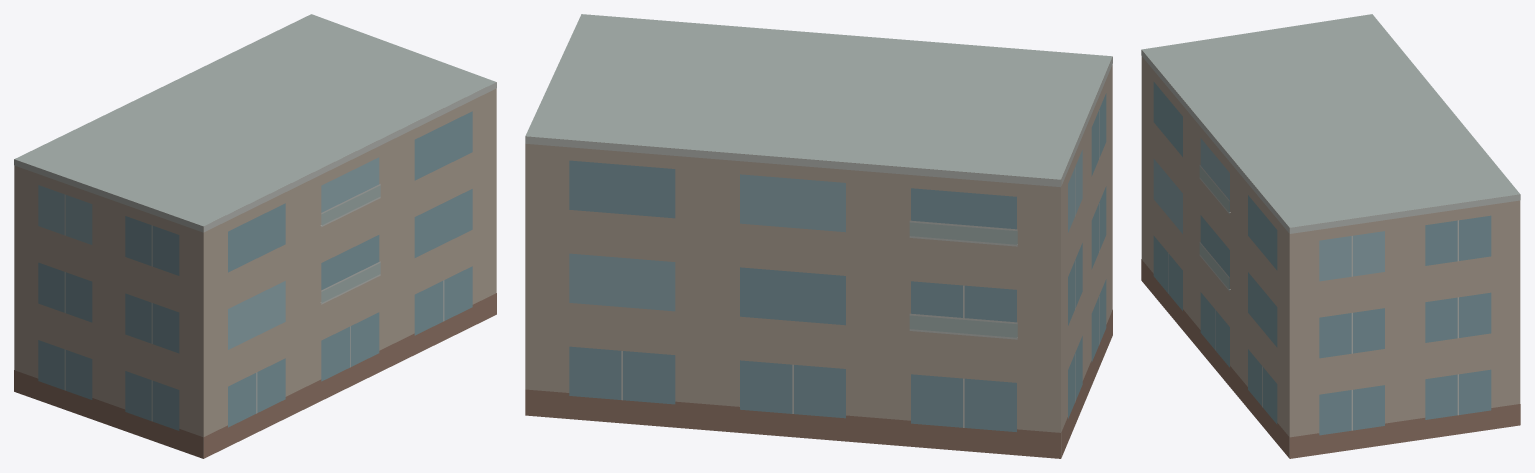
The model's file is survey-upis-32702164.glb.
The picture shows the model from 3 angles, left to right: view 1: azimuth 30°, elevation 25°; view 2: azimuth 150°, elevation 25°; view 3: azimuth 270°, elevation 25°; orthographic projection. The views are drawn at different scales.
Parts seen in each view (by area): view 1: survey-upis-32702164.tmp; view 2: survey-upis-32702164.tmp; view 3: survey-upis-32702164.tmp.
Boxes of the visible parts, <box> form: survey-upis-32702164.tmp: <box>14,14,496,458</box>; survey-upis-32702164.tmp: <box>525,14,1112,458</box>; survey-upis-32702164.tmp: <box>1141,14,1520,458</box>.
Size of the model in its own units: 18.17 by 9.15 by 13.61.
